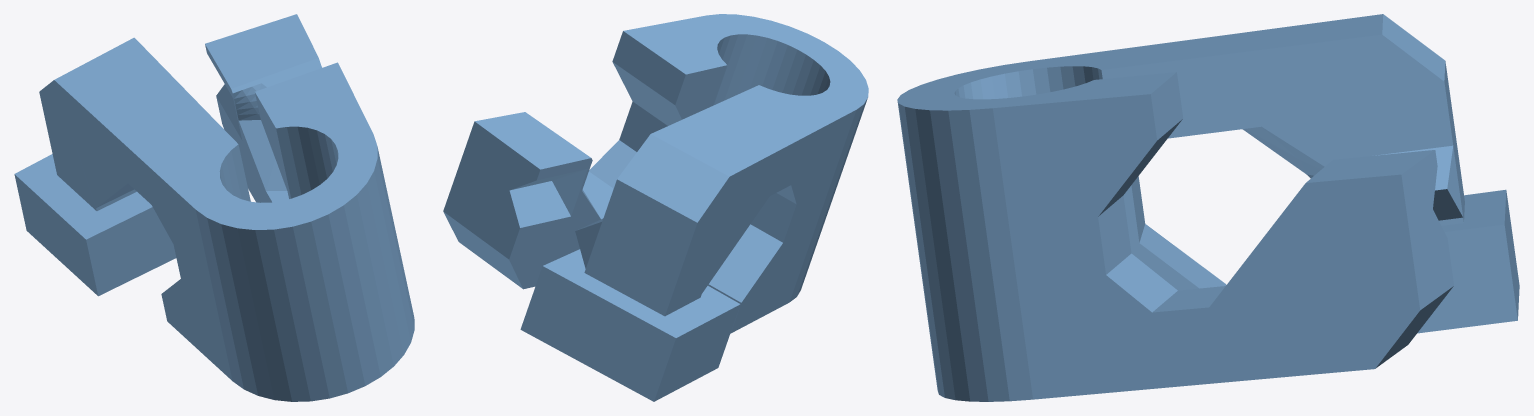
Rendered from barClamp1_4.dae.
The picture shows the model from 3 angles, left to right: view 1: azimuth 30°, elevation 25°; view 2: azimuth 150°, elevation 25°; view 3: azimuth 270°, elevation 25°; orthographic projection. The views are drawn at different scales.
Visible parts, largest first — view 1: barClamp1_019; view 2: barClamp1_019; view 3: barClamp1_019.
Part boxes in pixels (x1,y1,x2,y2): barClamp1_019: [14, 14, 414, 401]; barClamp1_019: [443, 14, 868, 401]; barClamp1_019: [897, 14, 1519, 401].
Bounding box in the file's own units: 0.0783 × 0.1162 × 0.072.
